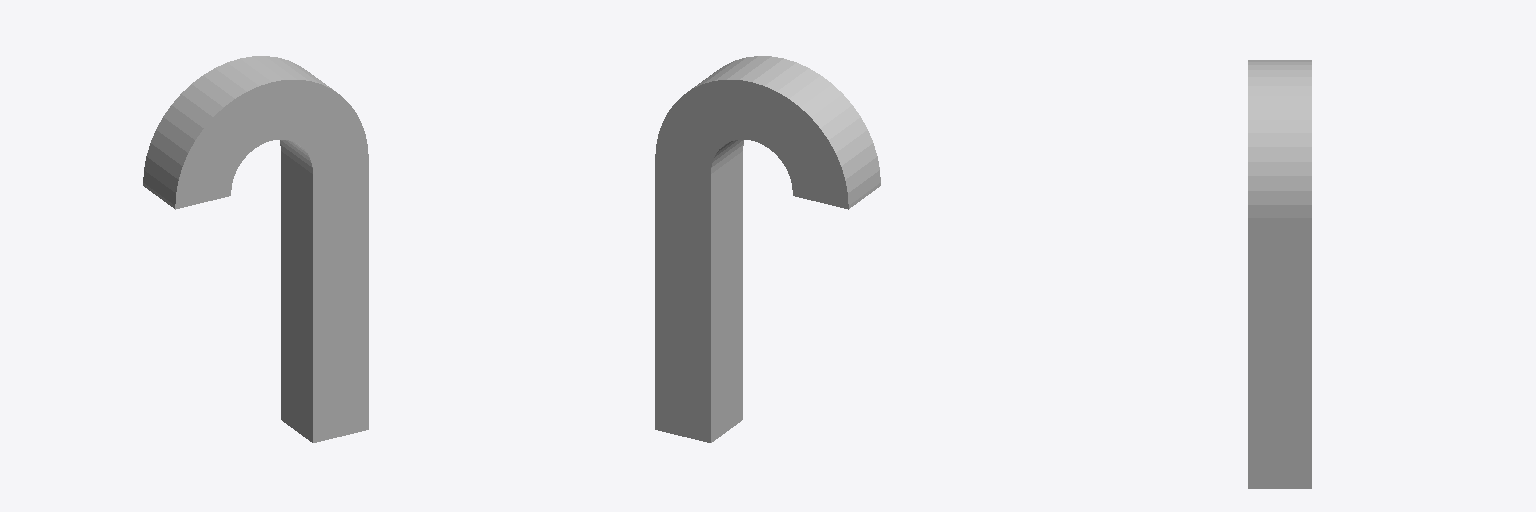
The model's file is candyCane.obj.
3 renders of one model, left to right at view 1: azimuth 30°, elevation 25°; view 2: azimuth 150°, elevation 25°; view 3: azimuth 270°, elevation 25°, orthographic.
Parts seen in each view (by area): view 1: candyCane; view 2: candyCane; view 3: candyCane.
Boxes of the visible parts, box(x1,y1,x2,y2) form: candyCane: box(143, 56, 368, 442); candyCane: box(655, 56, 880, 442); candyCane: box(1248, 60, 1311, 488).
Bounding box in the file's own units: 0.1383 × 0.2537 × 0.0399.